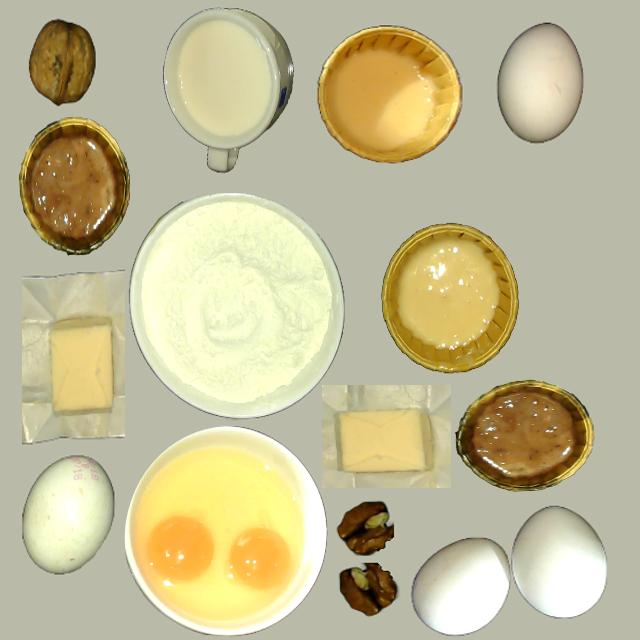Egg: (148, 517, 213, 581), (229, 527, 290, 589)
Flour: (129, 196, 336, 415)
Milk: (177, 20, 269, 135)
Walnut: (29, 20, 96, 106)
